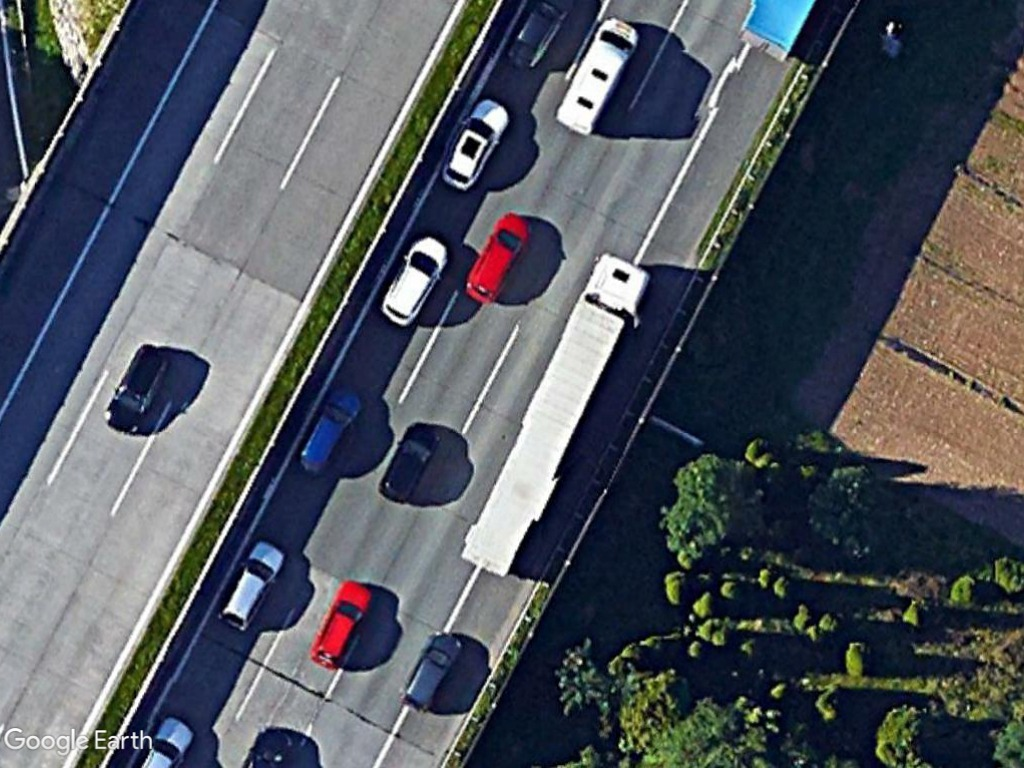car: (293, 379, 372, 483), (375, 229, 454, 331), (213, 532, 289, 636), (97, 335, 173, 439), (435, 94, 514, 194), (461, 207, 533, 309), (306, 576, 376, 674), (394, 626, 468, 715), (372, 417, 445, 505)
longvehicle: (461, 249, 654, 584)
van: (547, 14, 647, 143)
